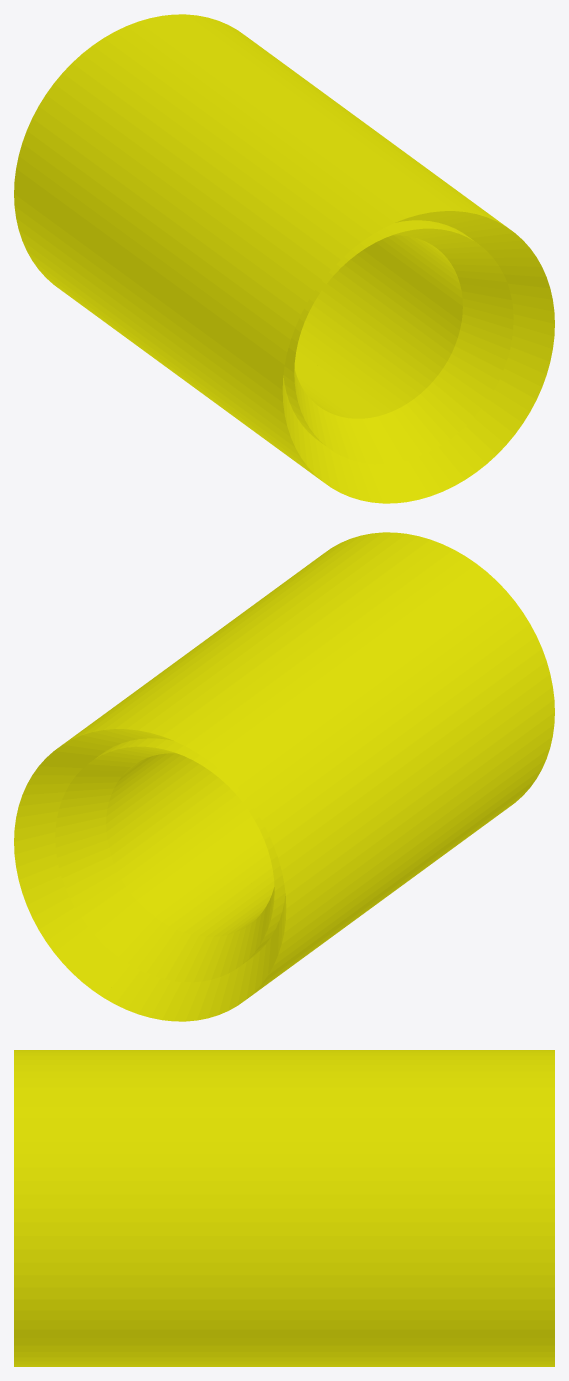
The model's file is HcalBarrel3D_V1.glb.
The picture shows the model from 3 angles, top to bottom: view 1: azimuth 30°, elevation 25°; view 2: azimuth 150°, elevation 25°; view 3: azimuth 270°, elevation 25°; orthographic projection.
Visible parts, largest first — view 1: HcalBarrel3D_V1; view 2: HcalBarrel3D_V1; view 3: HcalBarrel3D_V1.
Part boxes in pixels (x1,y1,x2,y2): HcalBarrel3D_V1: [14, 14, 554, 503]; HcalBarrel3D_V1: [14, 532, 554, 1021]; HcalBarrel3D_V1: [14, 1050, 554, 1366].
Bounding box in the file's own units: 5.78 × 5.78 × 9.88.
